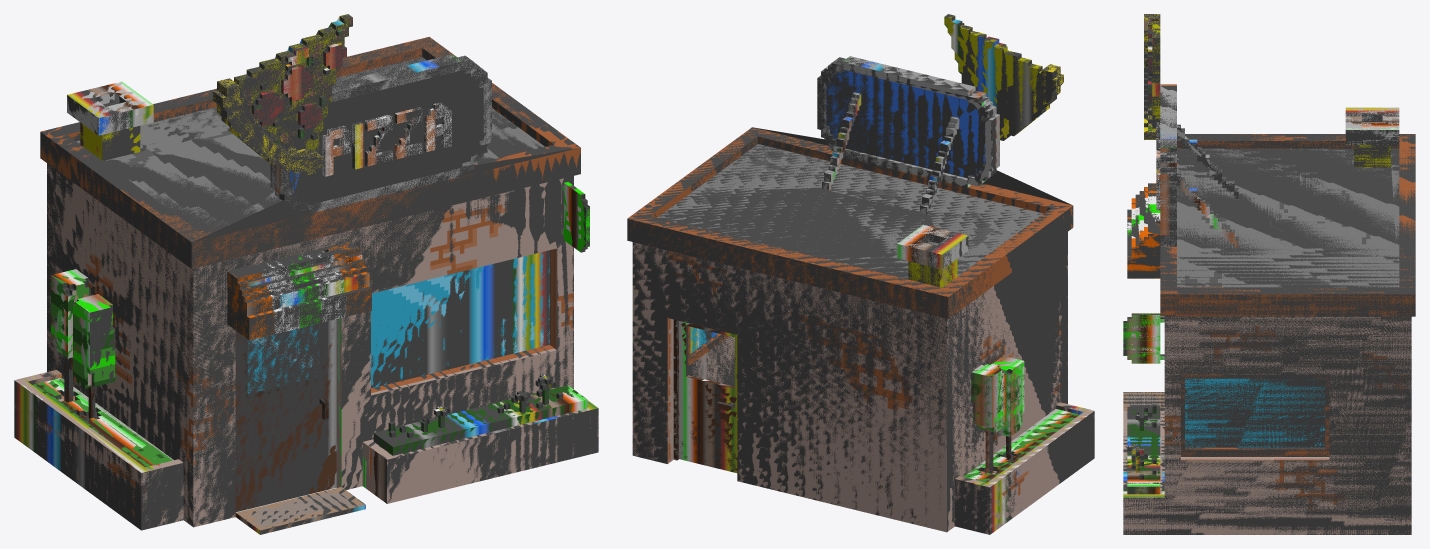
File: pizza restaurant.fbx
The picture shows the model from 3 angles, left to right: view 1: azimuth 30°, elevation 25°; view 2: azimuth 150°, elevation 25°; view 3: azimuth 270°, elevation 25°; orthographic projection. The views are drawn at different scales.
Visible parts, largest first — view 1: pizza store, pizza store_Backup; view 2: pizza store, pizza store_Backup; view 3: pizza store, pizza store_Backup.
Part boxes in pixels (bbox=[...]): pizza store: bbox=[14, 14, 598, 534]; pizza store_Backup: bbox=[14, 15, 598, 534]; pizza store: bbox=[627, 14, 1094, 534]; pizza store_Backup: bbox=[628, 14, 1093, 534]; pizza store: bbox=[1123, 14, 1415, 534]; pizza store_Backup: bbox=[1123, 14, 1415, 534].
Size of the model in its own units: 1010 by 1080 by 710.
